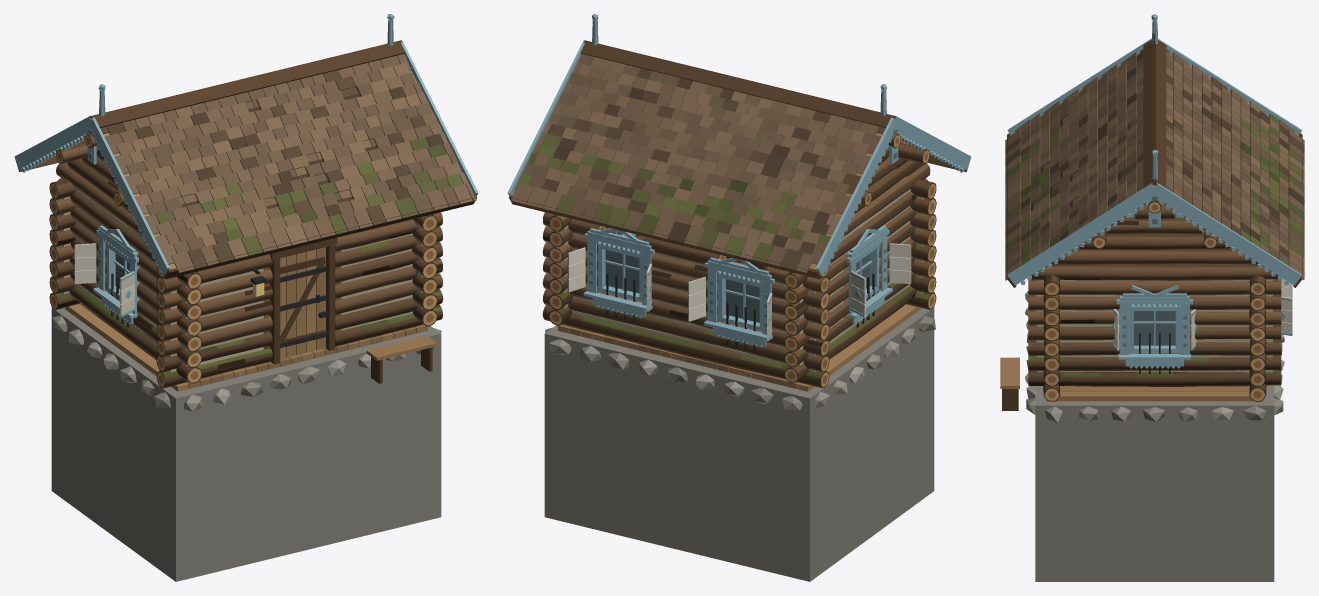
The model's file is hapishane.glb.
The picture shows the model from 3 angles, left to right: view 1: azimuth 30°, elevation 25°; view 2: azimuth 150°, elevation 25°; view 3: azimuth 270°, elevation 25°; orthographic projection. The views are drawn at different scales.
Visible parts, largest first — view 1: stone-plinth-001, shingle-003, shingle-002, shingle-001, dark-003, plank-door-004, plank-barge-002, plank-001, dark-004, plank-trim-005, stone-found-002, log-004 (+29 smaller); view 2: stone-plinth-001, shingle-006, shingle-005, shingle-004, dark-003, log-003, plank-trim-011, plank-trim-014, log-008, plank-barge-002, plank-001, plank-trim-005 (+30 smaller); view 3: stone-plinth-001, shingle-006, shingle-003, shingle-002, shingle-005, plank-barge-003, shingle-001, shingle-004, plank-trim-008, log-057, log-005, dark-003 (+20 smaller).
Boxes of the visible parts, x1,y1,x2,y2 form: stone-plinth-001: (51, 307, 441, 581); shingle-003: (144, 142, 476, 273); shingle-002: (123, 92, 447, 221); shingle-001: (100, 54, 422, 174); dark-003: (90, 40, 405, 127); plank-door-004: (280, 247, 326, 358); plank-barge-002: (14, 116, 169, 275); plank-001: (65, 303, 427, 391); dark-004: (269, 237, 337, 364); plank-trim-005: (93, 225, 140, 324); stone-found-002: (183, 347, 434, 411); log-004: (69, 285, 202, 383); stone-plinth-001: (544, 307, 934, 581); shingle-006: (511, 142, 841, 273); shingle-005: (538, 92, 862, 221); shingle-004: (563, 54, 885, 174); dark-003: (580, 40, 895, 127); log-003: (542, 305, 829, 388); plank-trim-011: (703, 257, 774, 347); plank-trim-014: (583, 228, 654, 318); log-008: (543, 289, 829, 372); plank-barge-002: (816, 116, 971, 275); plank-001: (558, 261, 920, 391); plank-trim-005: (846, 225, 892, 324); stone-plinth-001: (1035, 385, 1274, 581); shingle-006: (1250, 101, 1304, 279); shingle-003: (1005, 101, 1059, 280); shingle-002: (1053, 74, 1107, 241); shingle-005: (1202, 74, 1250, 241); plank-barge-003: (1007, 183, 1301, 285); shingle-001: (1101, 49, 1154, 210); shingle-004: (1166, 49, 1207, 210); plank-trim-008: (1116, 285, 1192, 368); log-057: (1030, 263, 1278, 281); log-005: (1028, 370, 1281, 386); dark-003: (1143, 40, 1166, 188).
Bounding box in the file's own units: 6.3 × 8.69 × 5.46.
